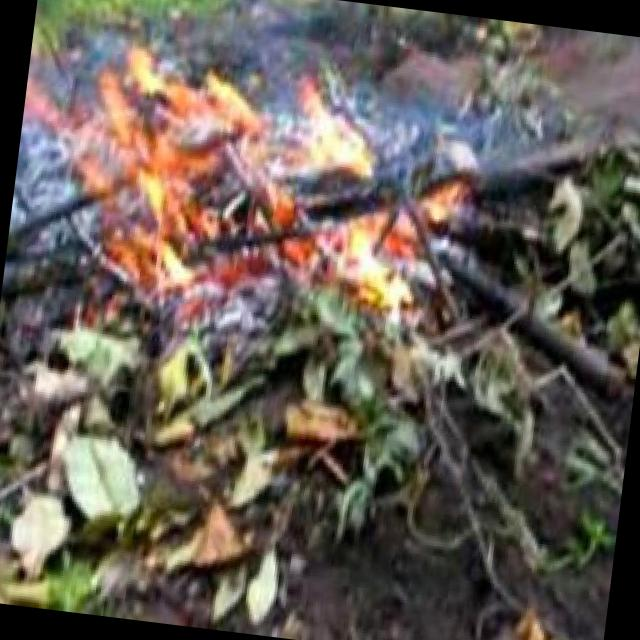Fire: (64, 41, 444, 295)
